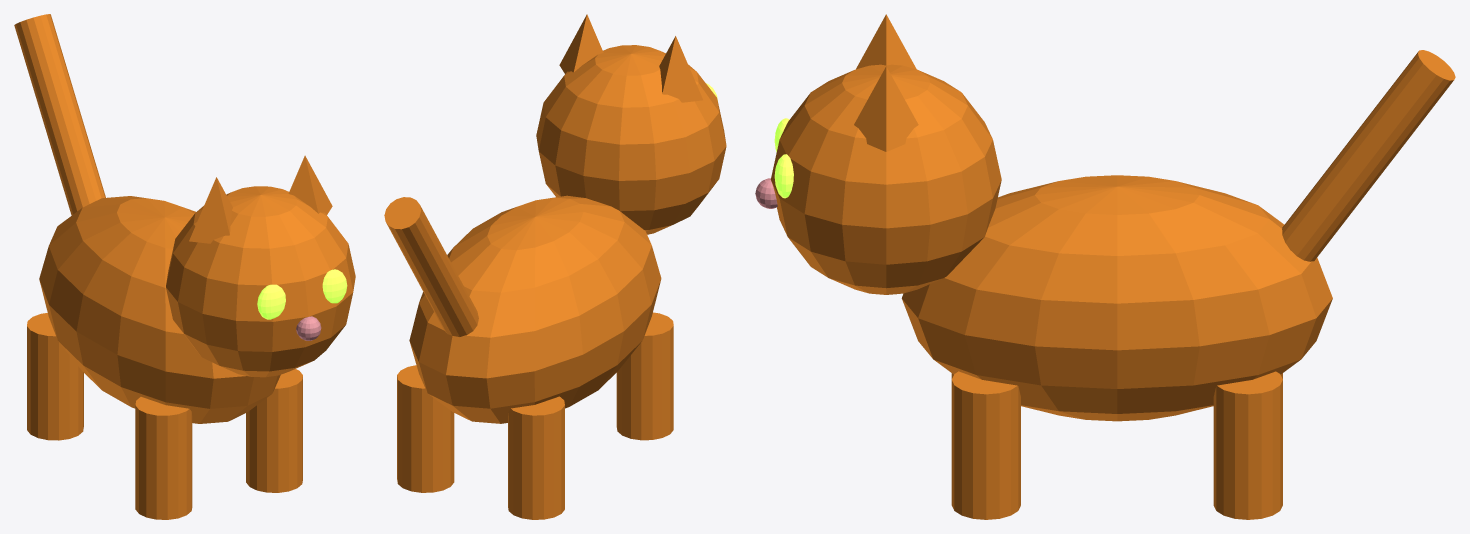
The model's file is cat-lod0.glb.
3 renders of one model, left to right at view 1: azimuth 30°, elevation 25°; view 2: azimuth 150°, elevation 25°; view 3: azimuth 270°, elevation 25°, orthographic. The views are drawn at different scales.
Parts seen in each view (by area): view 1: cat; view 2: cat; view 3: cat.
Boxes of the visible parts, bbox=[...] form: cat: bbox=[14, 14, 355, 519]; cat: bbox=[384, 14, 726, 519]; cat: bbox=[755, 14, 1455, 519].
Bounding box in the file's own units: 0.32 × 0.62 × 0.9093.
